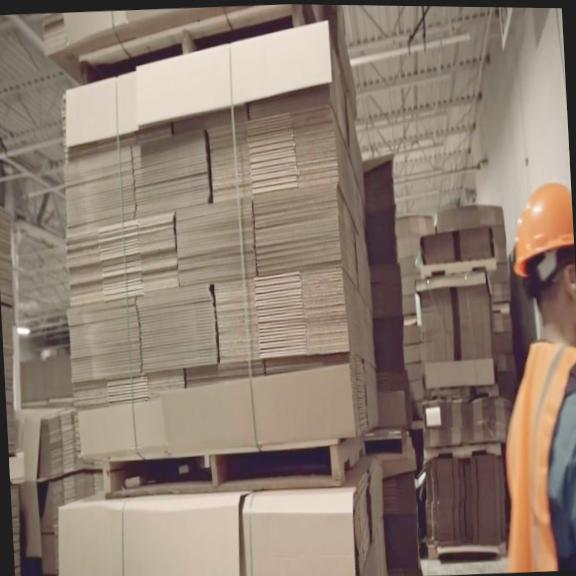safety_vest: (489, 335, 576, 574)
